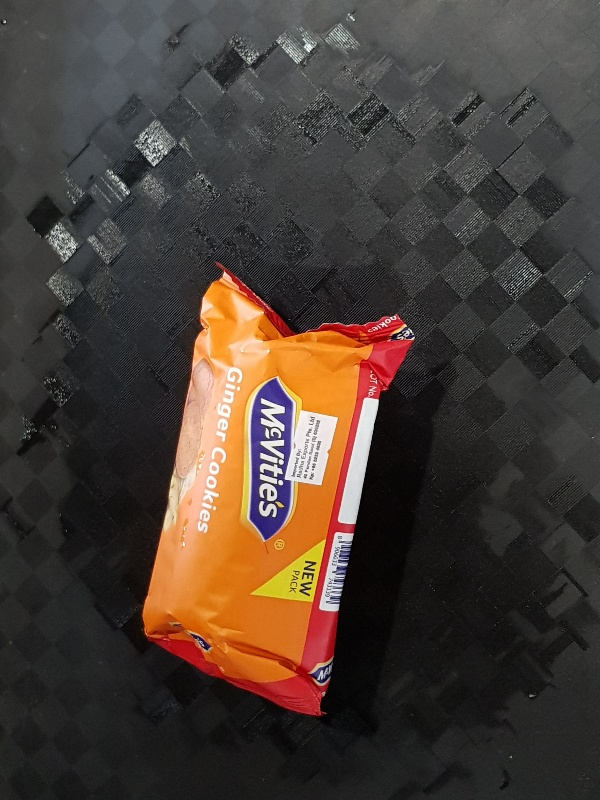McVitie's Ginger Cookies: (142, 261, 414, 719)
